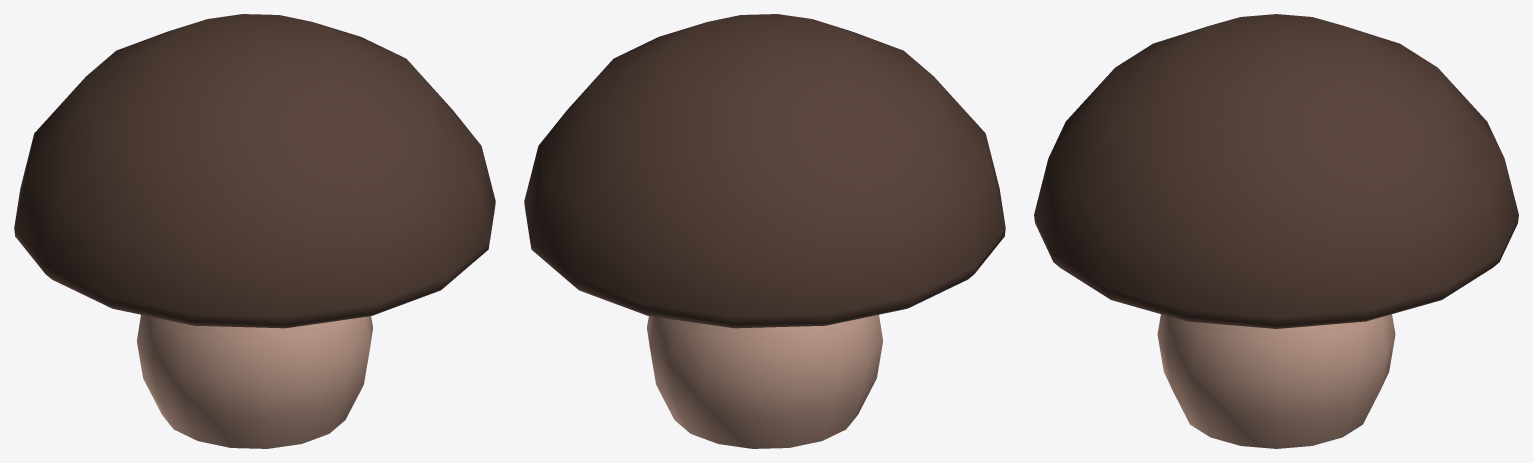
The model's file is Mashroom_3_03.fbx.
The picture shows the model from 3 angles, left to right: view 1: azimuth 30°, elevation 25°; view 2: azimuth 150°, elevation 25°; view 3: azimuth 270°, elevation 25°; orthographic projection.
Parts seen in each view (by area): view 1: Mashroom_3_03; view 2: Mashroom_3_03; view 3: Mashroom_3_03.
Boxes of the visible parts, x1,y1,x2,y2 form: Mashroom_3_03: (14, 14, 495, 448); Mashroom_3_03: (524, 14, 1005, 448); Mashroom_3_03: (1034, 14, 1518, 448).
Size of the model in its own units: 391 by 329 by 391.
